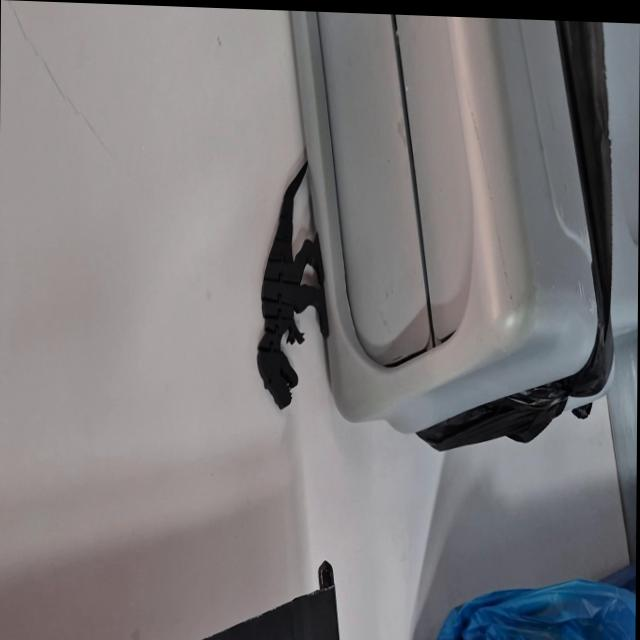dino: (255, 158, 330, 413)
